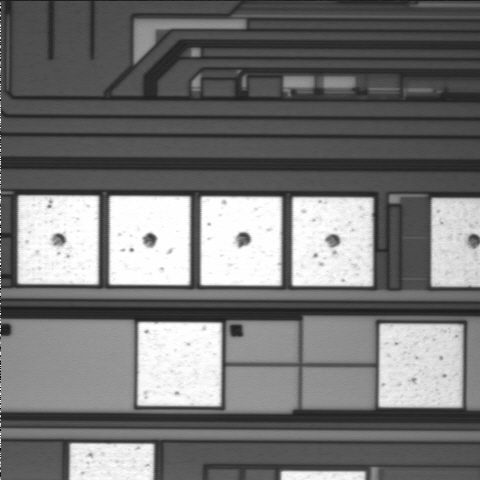pad: (200, 196, 282, 286), (18, 196, 99, 285), (109, 196, 190, 285), (292, 197, 373, 286), (137, 322, 222, 406), (379, 324, 463, 407)
